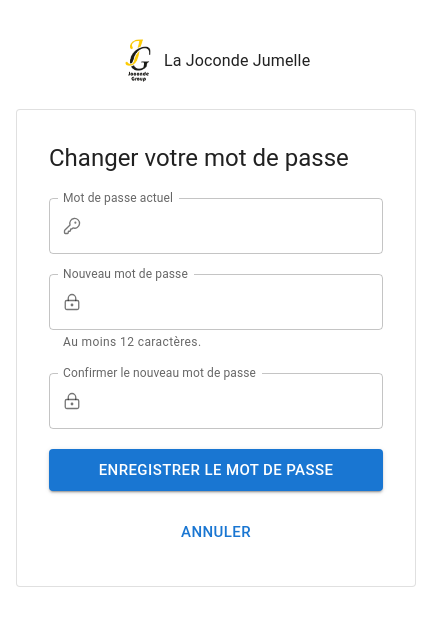
Test case: ChangePasswordPage — mode volontaire (spec 005, FR-007, FR-008) › garde les contrôles actuels : champs vides, longueur, confirmation
Expected: the password field labelled "Mot de passe actuel" is shown, [89,198,383,254]
Type "court" into the password field labelled "Nouveau mot de passe" at (236, 302), box [89,274,383,330]
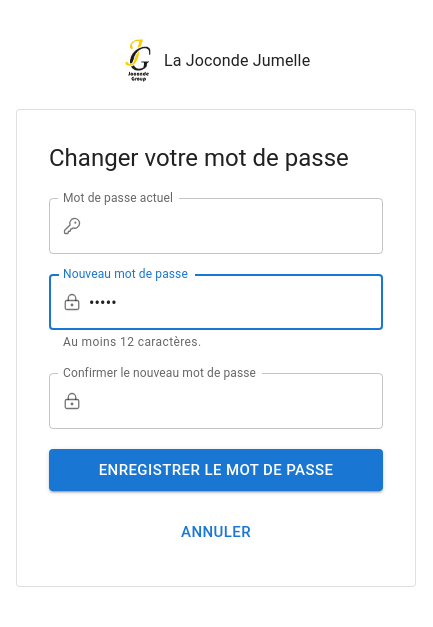
Type "autre" into the password field labelled "Confirmer le nouveau mot de passe" at (236, 401), box [89,373,383,429]
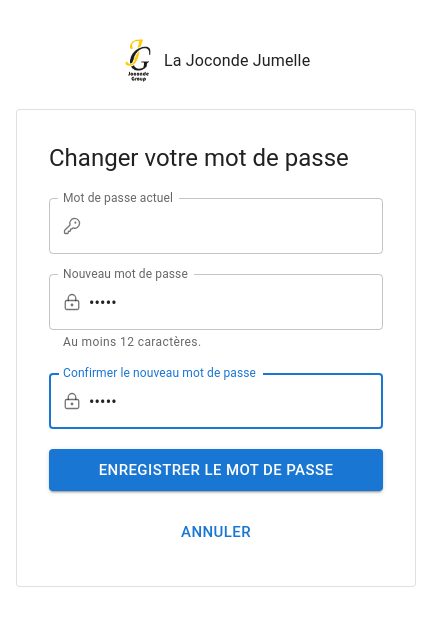
Click the button "Enregistrer le mot de passe" at (216, 470), box [49,449,383,492]
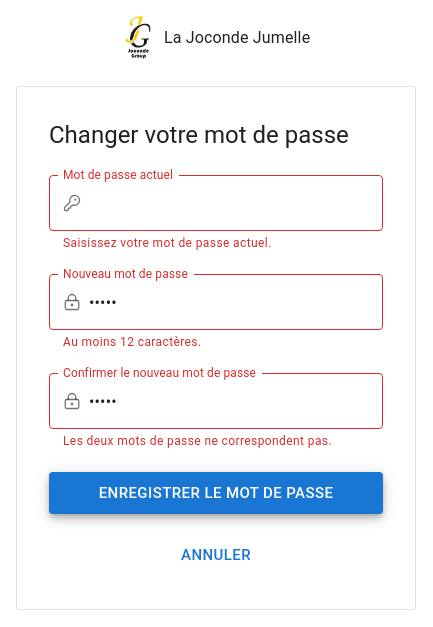
Expected: the text "Au moins 12 caractères." is shown, [63,335,202,349]
Result: the text "Saisissez votre mot de passe actuel." is shown at [63,236,272,250]
Result: the text "Les deux mots de passe ne correspondent pas." is shown at [63,432,369,452]
